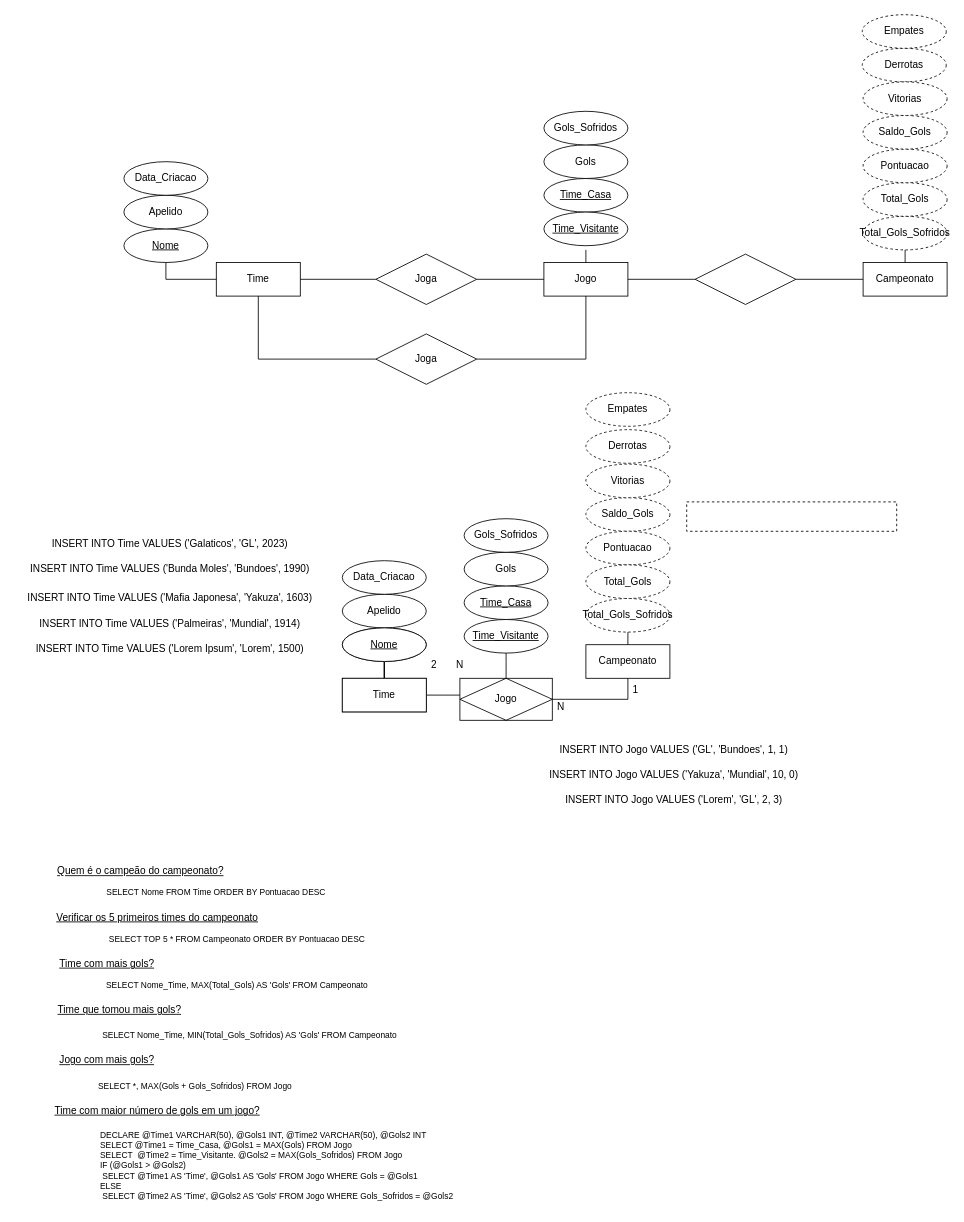
Some shapes in this 964 by 1222 pixel diagram are drawn without their labels. The box of each missing label's shape, as (x1, y1, x2, y2) in pixels:
Possui: (694, 253, 796, 304)
Saldo = Total_Gols - Total_Gols_Sofridos: (686, 501, 897, 531)
